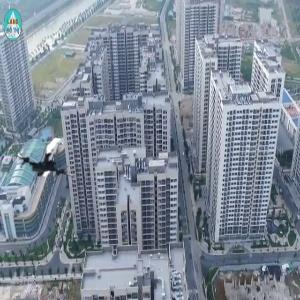drone: (19, 128, 83, 192)
